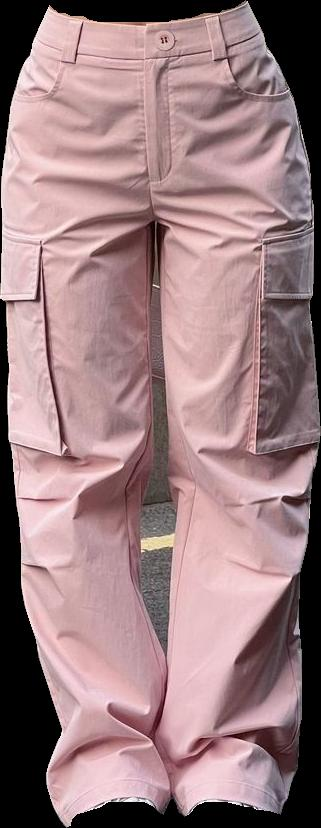Hemline: (62, 793, 168, 827), (182, 790, 283, 817)
Pantleg: (0, 6, 173, 824), (145, 2, 319, 815)
Waistline: (30, 31, 265, 70), (45, 0, 248, 27)
